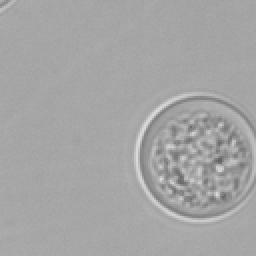picoshell: (136, 92, 254, 222)
